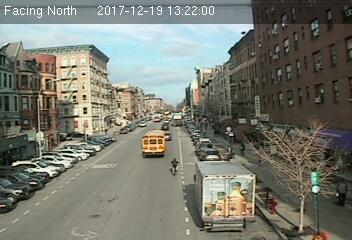bicycle: (169, 156, 180, 176)
car: (201, 147, 221, 162)
truck: (195, 160, 255, 235)
